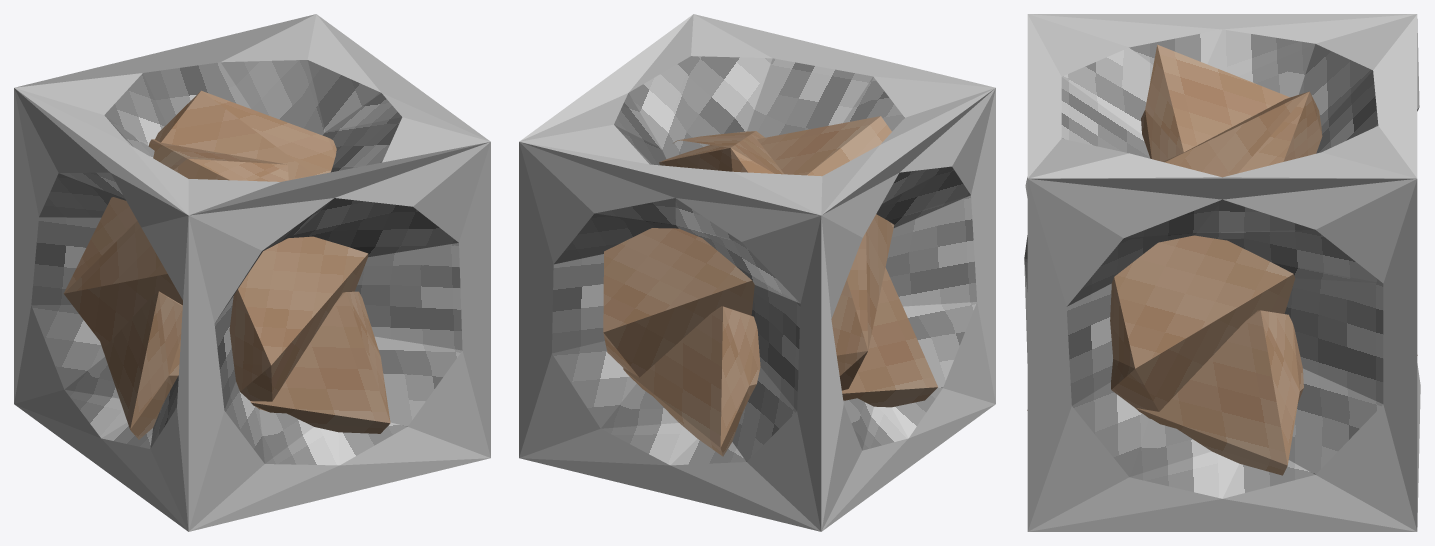
Rendered from ore_transform1.obj.
The picture shows the model from 3 angles, left to right: view 1: azimuth 30°, elevation 25°; view 2: azimuth 150°, elevation 25°; view 3: azimuth 270°, elevation 25°; orthographic projection. The views are drawn at different scales.
Parts seen in each view (by area): view 1: mesh; view 2: mesh; view 3: mesh.
Boxes of the visible parts, left/top/right/bottom form: mesh: left=14, top=14, right=490, bottom=531; mesh: left=519, top=14, right=995, bottom=531; mesh: left=1024, top=14, right=1420, bottom=531.
Bounding box in the file's own units: 1.02 × 1.02 × 1.02.
